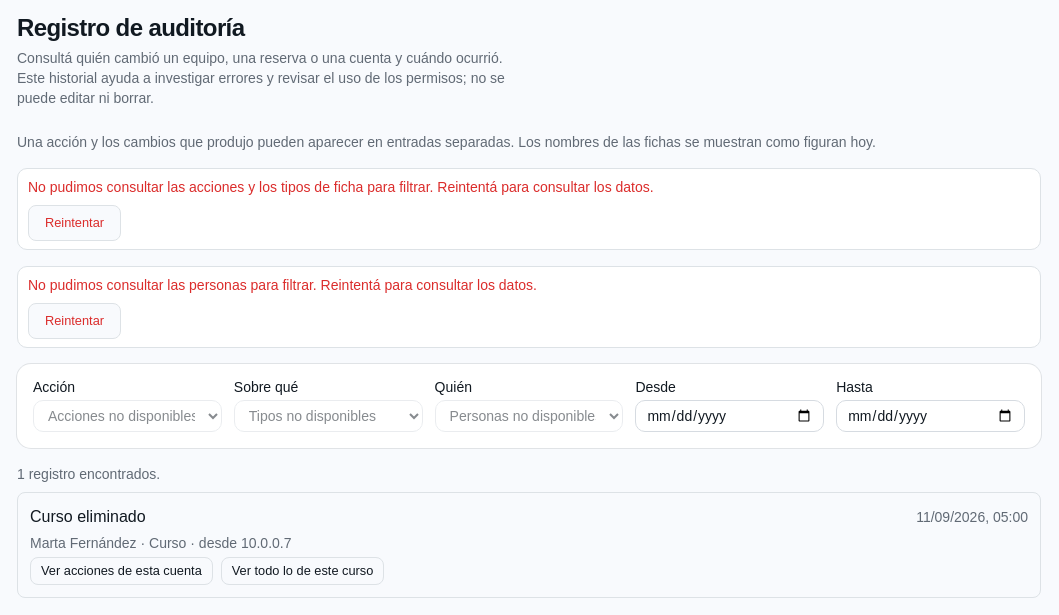
Test case: AuditoriaPage › los catálogos fallidos no se presentan como opciones vacías
This screenshot has width=1059, height=615.
Expected: the text "No pudimos consultar las acciones" is shown, [28,179,433,195]
Expected: the text "No pudimos consultar las personas" is shown, [28,277,317,293]
Click the 1st button "Reintentar" at {"x": 74, "y": 223}, box [28,205,121,241]
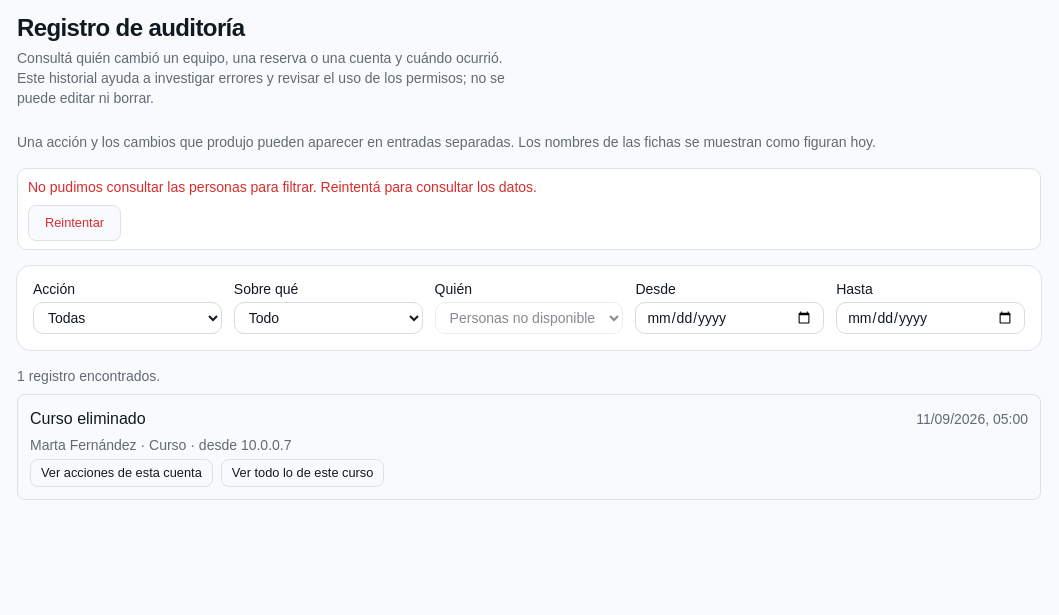
Click the button "Reintentar" at {"x": 74, "y": 223}, box [28,205,121,241]
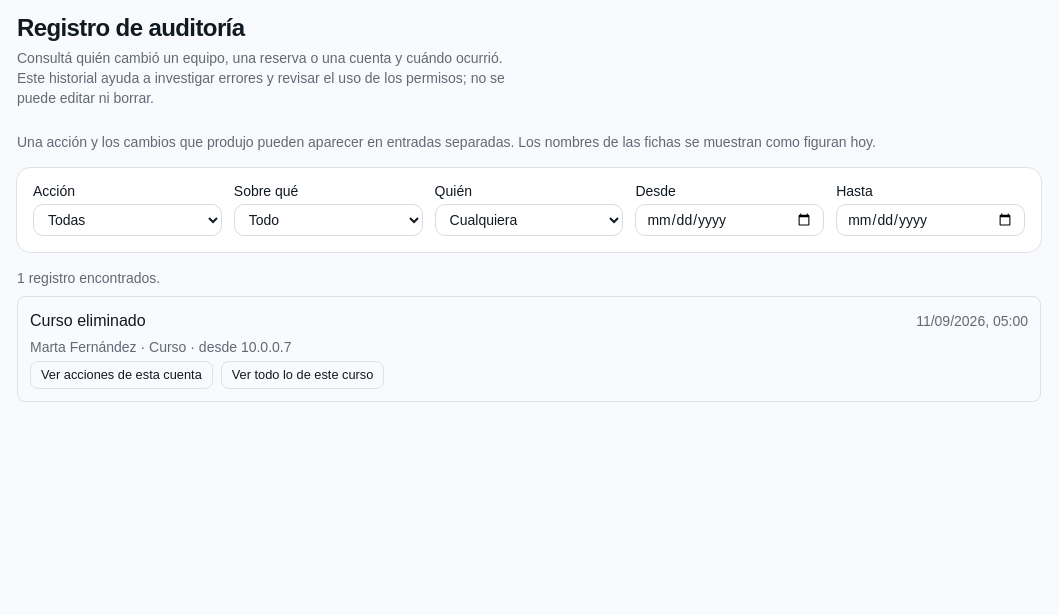
Expected: the dropdown labelled "Quién" is enabled, [435,204,623,236]
